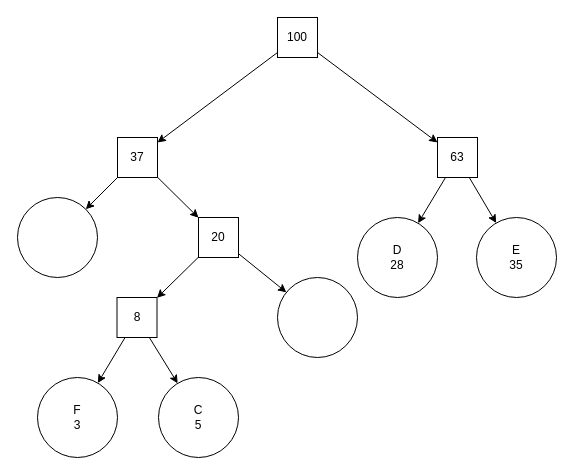
This 574x475 diagram has some shape labels left out. Here are the shapes that lost their labels. From the top down, the centre of each, then its label:
(x=57, y=237): A 17
(x=317, y=317): B 12
